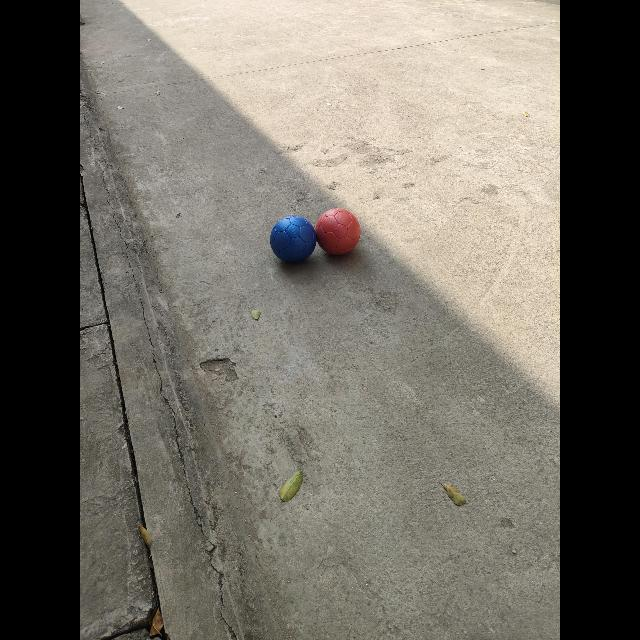B: (270, 216, 316, 262)
R: (315, 209, 360, 255)
